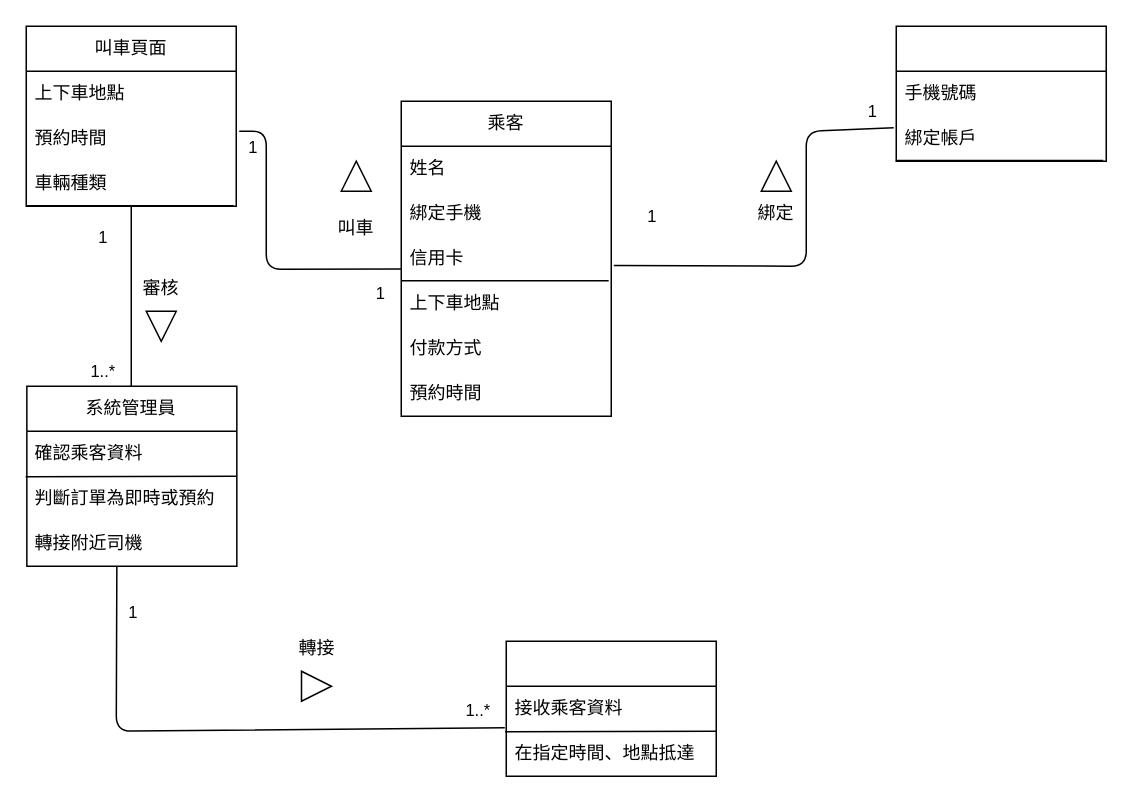
Some shapes in this 1134 by 803 pixel diagram are drawn without their labels. The box of each missing label's shape, as (x1, y1, x2, y2) in pixels:
司機: (505, 640, 716, 776)
手機: (895, 25, 1106, 161)
